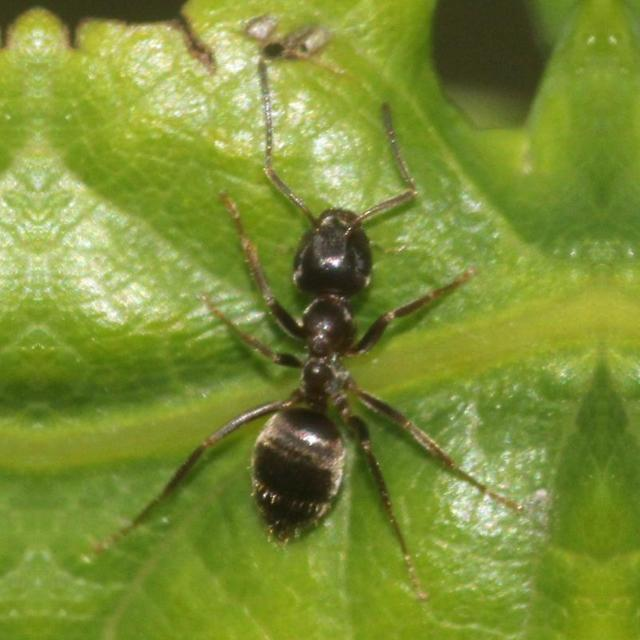Lasius: (192, 159, 472, 545)
